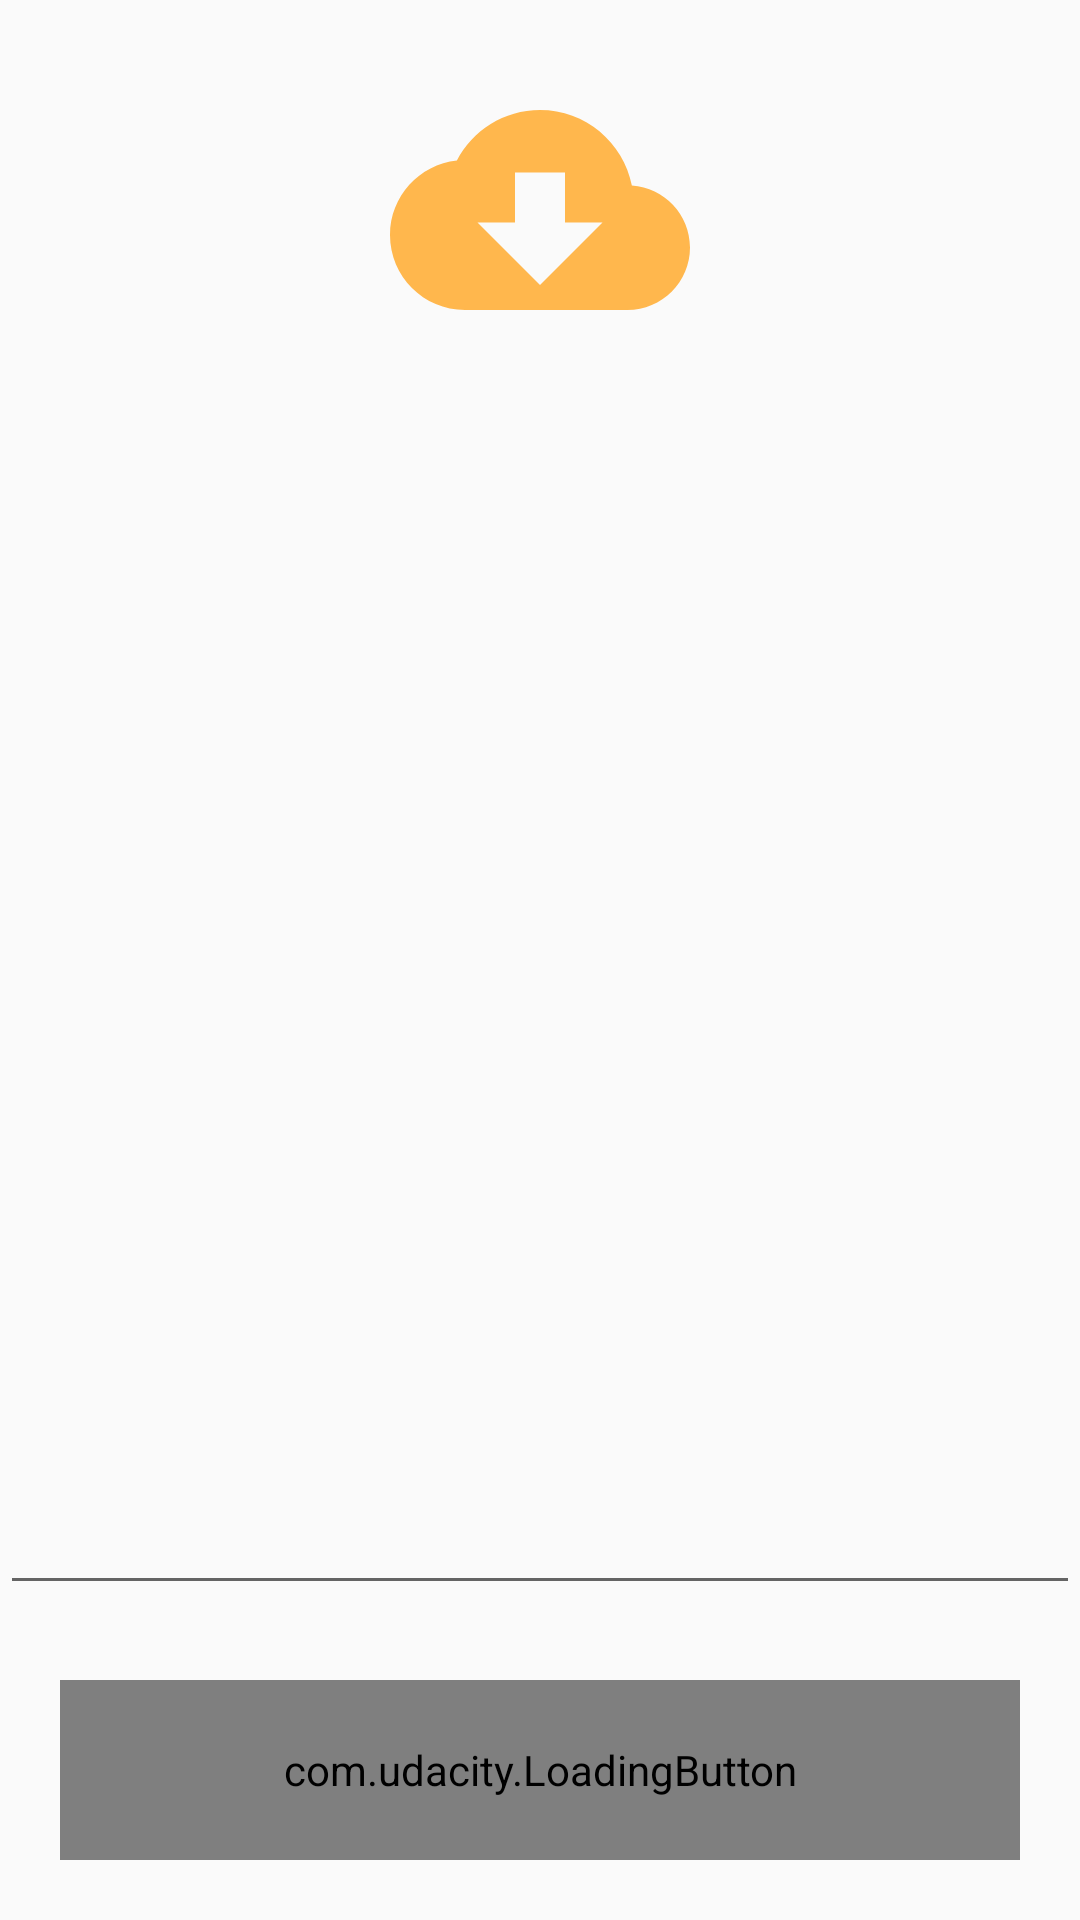

Screen size 1080 x 1920. Icon name, then its center in pixels as point (x, y):
cloud: point (540, 210)
